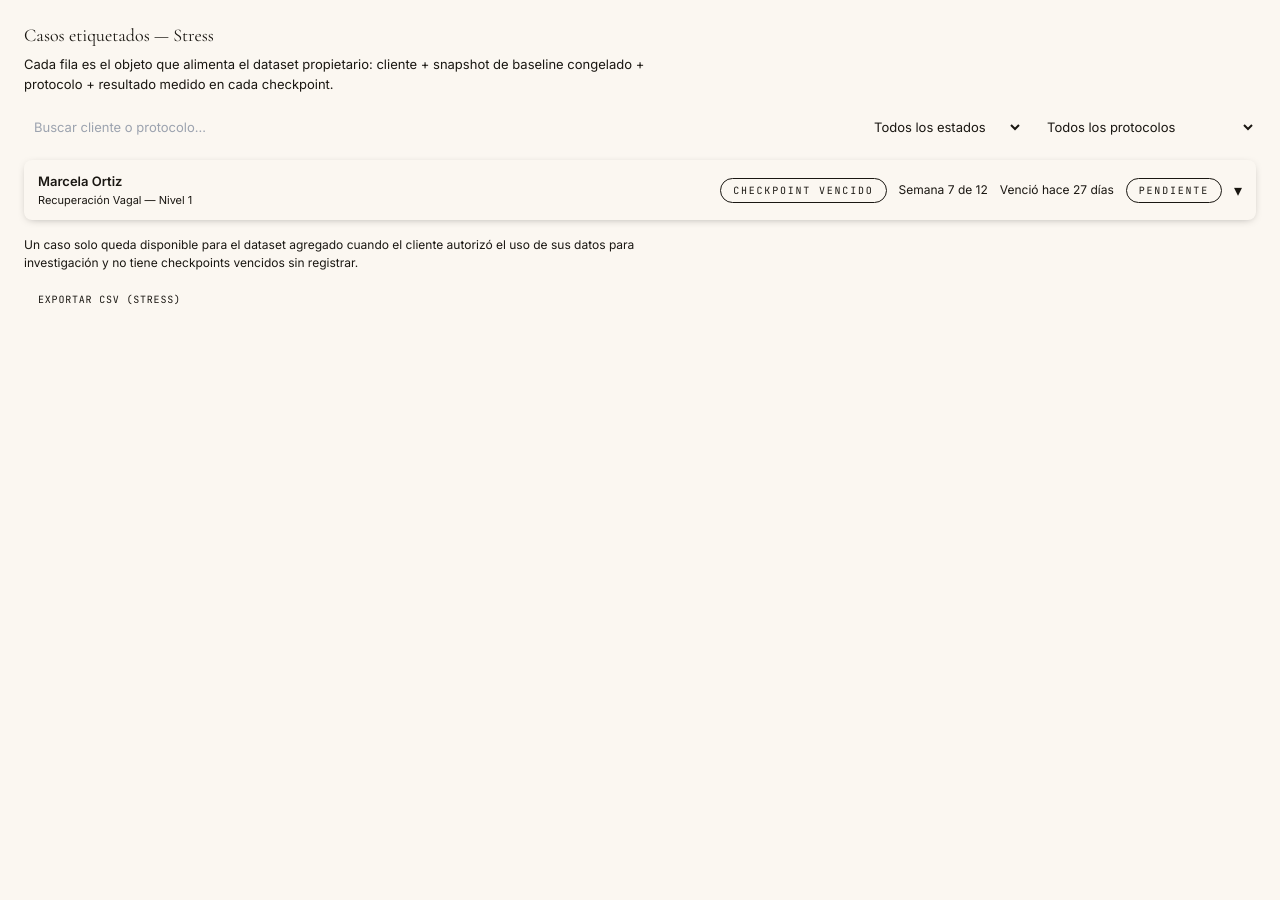
AdminStressCasesPanel (punto 24) › expands a case and shows its full detail — regla, consentimiento, baseline congelado y checkpoints
Step 1. Click the text "Marcela Ortiz" → (80, 181), box [38,173,122,189]
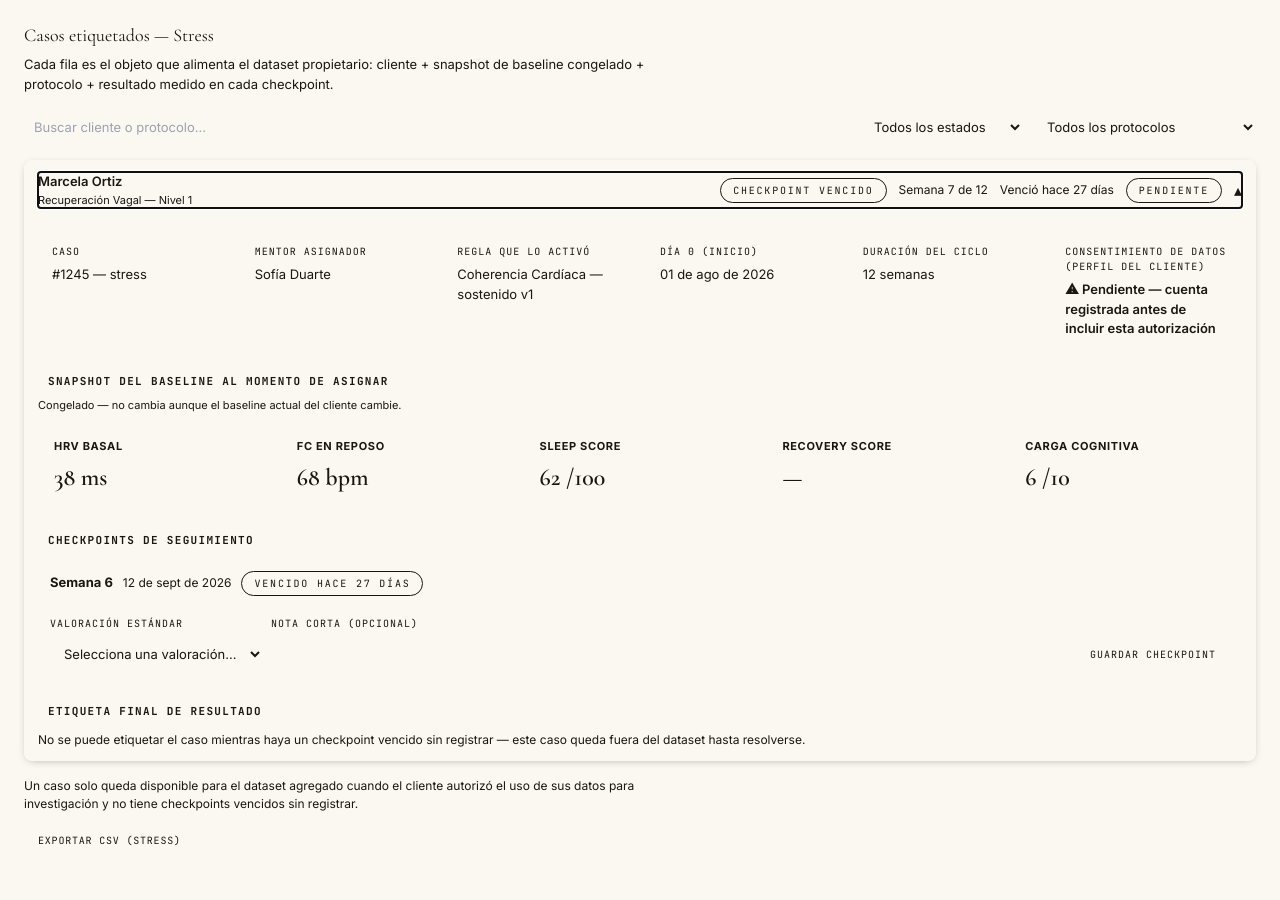
Check: the text "Coherencia Cardíaca — sostenido" is shown, box [457,266,603,302]
Check: the text "Pendiente — cuenta registrada antes de incluir esta autorización" is shown, box [1065,281,1216,336]
Check: the text "Vencido hace 27 días" is shown, box [242,570,424,596]
